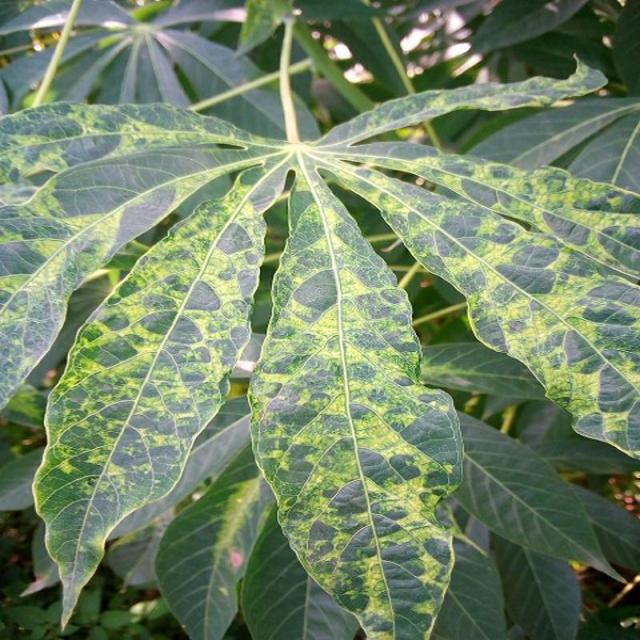cassava leaf: (30, 173, 268, 630), (245, 158, 465, 638)
